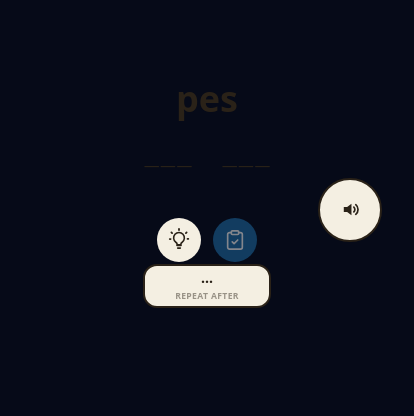
TypingStudyCard › waits for the check button when explicit checking is enabled
This screenshot has width=414, height=416.
Type "conchó" into the field.
click(207, 167); type("conchó")  # box [136,129,278,206]
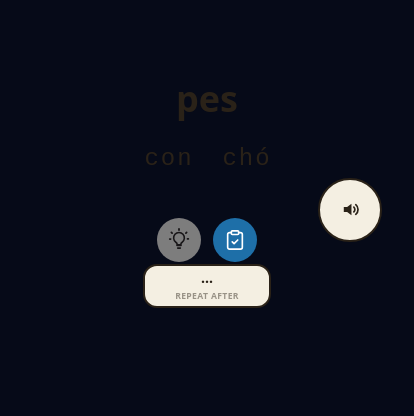
Expected: the text "✓ Perfect!" is not shown
Now the button named "Check" is enabled
Click the button named "Check".
click(235, 240)  # box [213,218,257,262]
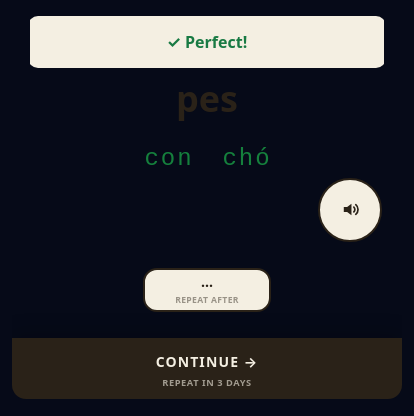
Now the text "✓ Perfect!" is shown, box [30,16,384,68]
